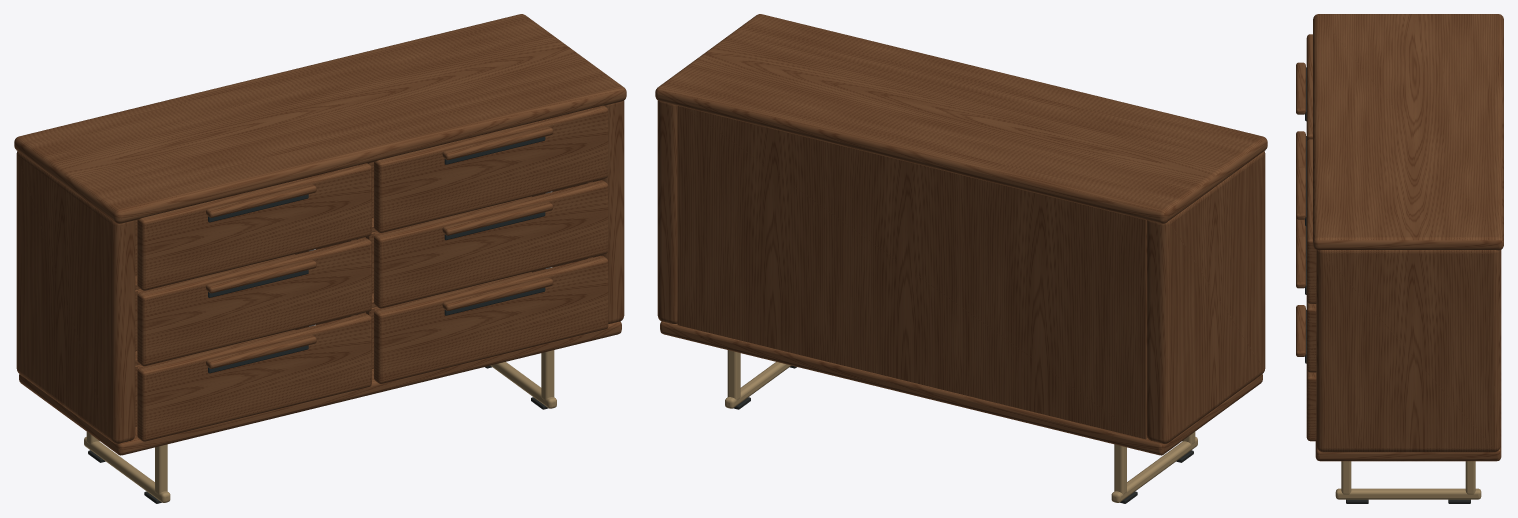
The model's file is profile_six_drawer_dresser.glb.
3 views of the same model, side by side, from view 1: azimuth 30°, elevation 25°; view 2: azimuth 150°, elevation 25°; view 3: azimuth 270°, elevation 25° (orthographic). The views are drawn at different scales.
Visible parts, largest first — view 1: Case | rounded top, Case | curved end cheek, Drawer 1-1 | walnut front, Drawer 2-2 | walnut front, Drawer 1-2 | walnut front, Drawer 2-1 | walnut front, Drawer 2-3 | walnut front, Drawer 1-3 | walnut front, Case | bottom, Case | curved end cheek.001, Sled | floor rail, Drawer 2-1 | sculpted walnut grip (+6 smaller); view 2: Case | back, Case | rounded top, Case | curved end cheek, Case | bottom, Case | curved end cheek.001, Sled | floor rail, Sled | floor rail.001; view 3: Case | rounded top, Case | curved end cheek.001, Case | bottom, Sled | floor rail.001, Drawer 2-3 | walnut front, Drawer 2-1 | walnut front, Drawer 2-2 | walnut front, Drawer 1-3 | walnut front, Drawer 2-2 | sculpted walnut grip, Drawer 1-3 | sculpted walnut grip, Drawer 2-3 | sculpted walnut grip, Drawer 2-1 | sculpted walnut grip (+3 smaller).
Part boxes in pixels (box(x1,y1,x2,y2)): Case | rounded top: box(14, 14, 626, 223); Case | curved end cheek: box(16, 151, 135, 443); Drawer 1-1 | walnut front: box(137, 313, 371, 441); Drawer 2-2 | walnut front: box(374, 180, 608, 308); Drawer 1-2 | walnut front: box(137, 238, 371, 366); Drawer 2-1 | walnut front: box(374, 255, 608, 383); Drawer 2-3 | walnut front: box(374, 105, 608, 232); Drawer 1-3 | walnut front: box(137, 163, 371, 290); Case | bottom: box(19, 321, 621, 455); Case | curved end cheek.001: box(593, 100, 624, 323); Sled | floor rail: box(84, 437, 170, 502); Drawer 2-1 | sculpted walnut grip: box(442, 277, 553, 310); Case | back: box(677, 106, 1147, 439); Case | rounded top: box(655, 14, 1267, 223); Case | curved end cheek: box(1146, 151, 1265, 443); Case | bottom: box(660, 321, 1262, 455); Case | curved end cheek.001: box(657, 100, 677, 323); Sled | floor rail: box(1111, 437, 1197, 502); Sled | floor rail.001: box(725, 362, 791, 408); Case | rounded top: box(1313, 14, 1503, 250); Case | curved end cheek.001: box(1316, 250, 1500, 452); Case | bottom: box(1315, 250, 1501, 461); Sled | floor rail.001: box(1335, 488, 1481, 499); Drawer 2-3 | walnut front: box(1306, 139, 1316, 303); Drawer 2-1 | walnut front: box(1306, 369, 1316, 441); Drawer 2-2 | walnut front: box(1306, 301, 1316, 372); Drawer 1-3 | walnut front: box(1306, 34, 1312, 142); Drawer 2-2 | sculpted walnut grip: box(1296, 236, 1305, 288); Drawer 1-3 | sculpted walnut grip: box(1296, 62, 1305, 114); Drawer 2-3 | sculpted walnut grip: box(1296, 167, 1305, 219); Drawer 2-1 | sculpted walnut grip: box(1296, 305, 1305, 356).
Bounding box in the file's own units: 1.42 × 0.846 × 0.549.
5 materials, 1 textured.
